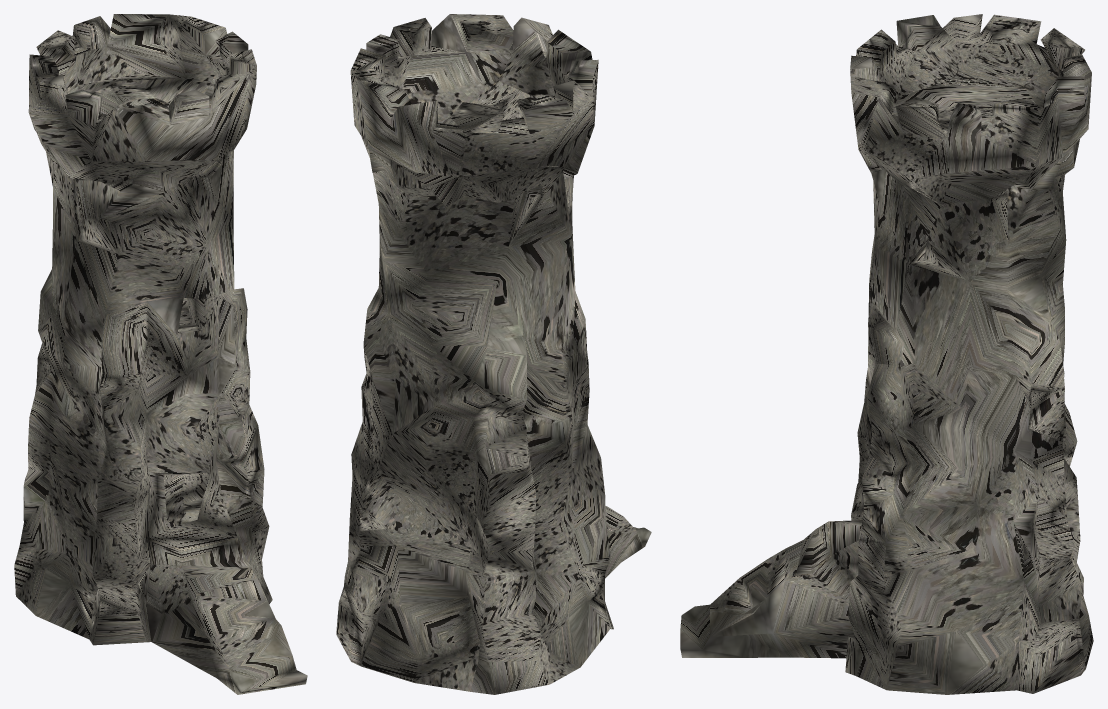
Rendered from gt_stone.glb.
3 views of the same model, side by side, from view 1: azimuth 30°, elevation 25°; view 2: azimuth 150°, elevation 25°; view 3: azimuth 270°, elevation 25° (orthographic). The views are drawn at different scales.
Parts seen in each view (by area): view 1: gt_stone; view 2: gt_stone; view 3: gt_stone.
Part boxes in pixels (x1,y1,x2,y2): gt_stone: [14, 14, 307, 694]; gt_stone: [336, 14, 651, 694]; gt_stone: [680, 14, 1093, 694].
Bounding box in the file's own units: 0.7549 × 1.9 × 1.23.
1 material, 1 textured.
